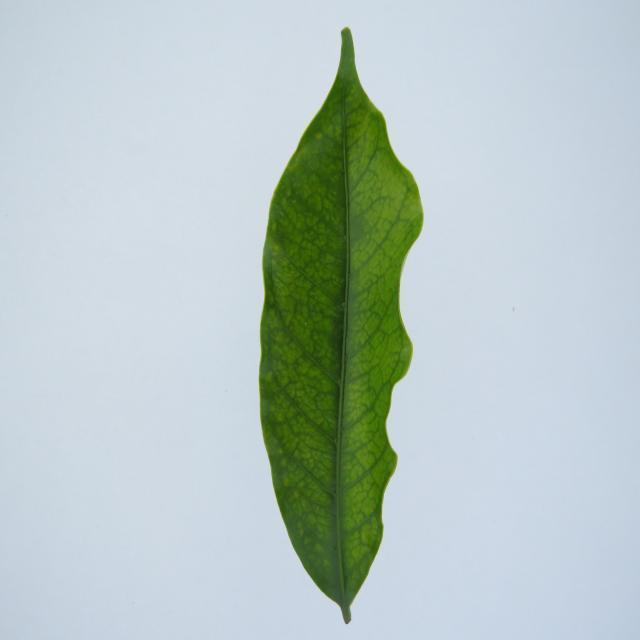DeficienciaNutricional-Hierro: (259, 28, 424, 623)
